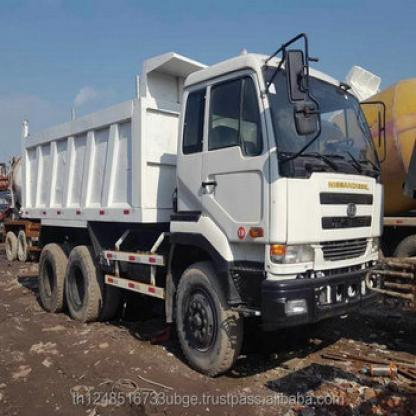dump_truck: (6, 46, 378, 374)
